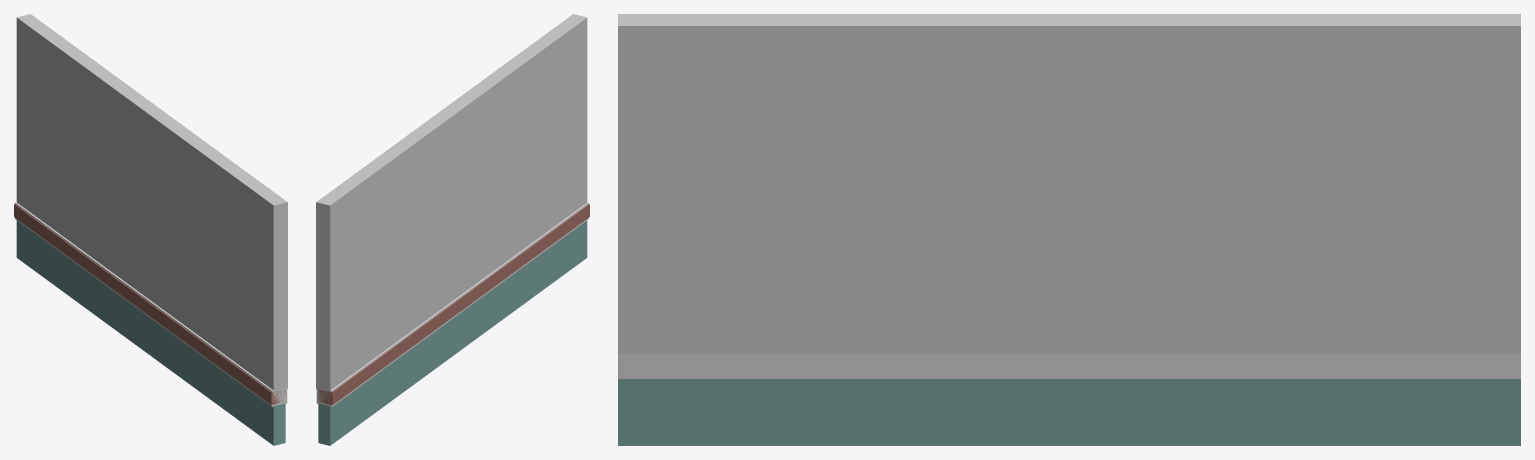
The model's file is wall_usd.fbx.
3 views of the same model, side by side, from view 1: azimuth 30°, elevation 25°; view 2: azimuth 150°, elevation 25°; view 3: azimuth 270°, elevation 25° (orthographic). The views are drawn at different scales.
Visible parts, largest first — view 1: wall8, wall2, wall9, wall7; view 2: wall8, wall2, wall9, wall7; view 3: wall8, wall2, wall7.
Boxes of the visible parts, bbox=[...] form: wall8: bbox=[16, 14, 287, 391]; wall2: bbox=[16, 220, 285, 445]; wall9: bbox=[14, 204, 285, 404]; wall7: bbox=[15, 202, 287, 407]; wall8: bbox=[316, 14, 587, 391]; wall2: bbox=[318, 220, 587, 445]; wall9: bbox=[318, 204, 589, 404]; wall7: bbox=[316, 202, 588, 407]; wall8: bbox=[618, 14, 1520, 353]; wall2: bbox=[618, 379, 1520, 445]; wall7: bbox=[618, 353, 1520, 378].
Size of the model in its own units: 0.6237 by 8.65 by 16.78.
